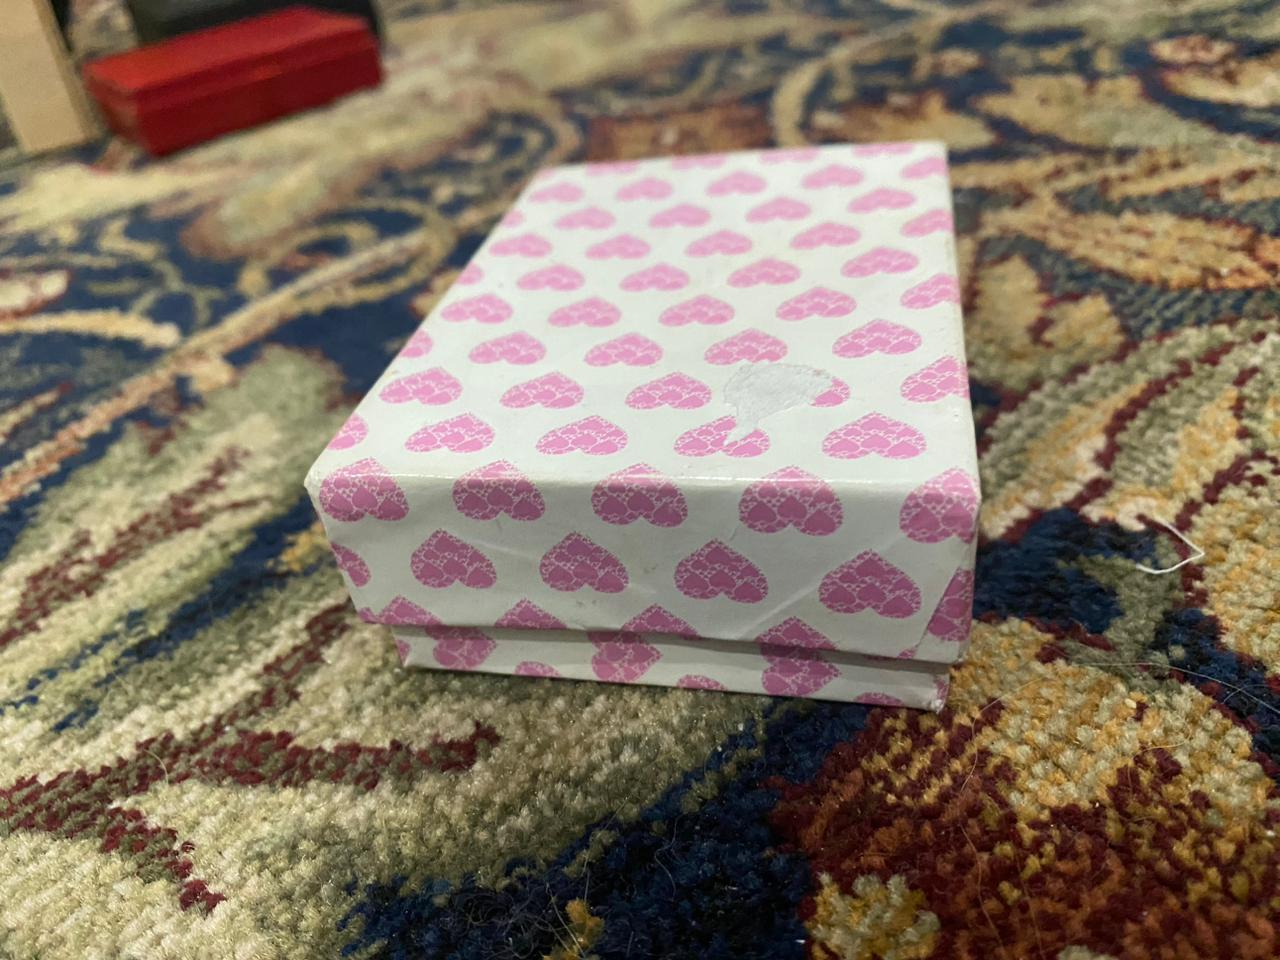Black Box: (74, 4, 388, 157)
Pink Box: (297, 139, 983, 734)
